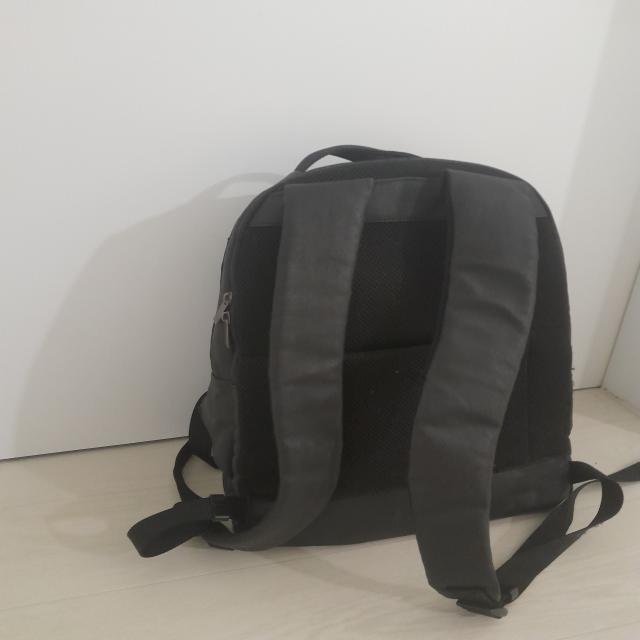backpack: (128, 146, 640, 620)
